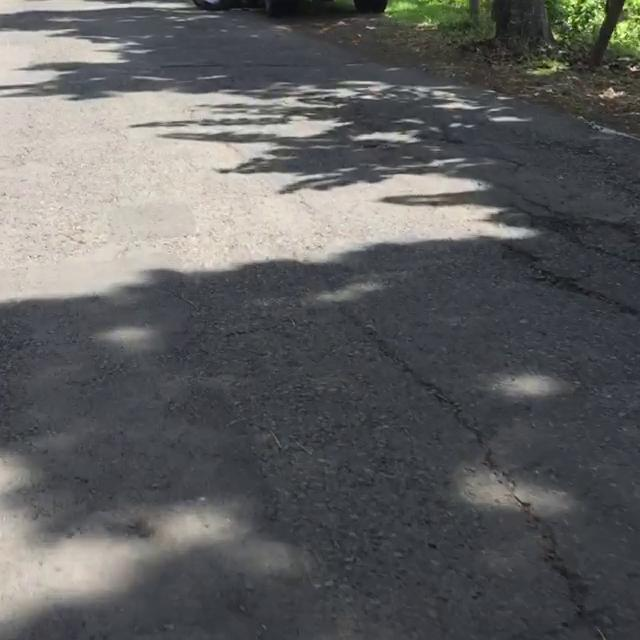retak_memanjang: (327, 308, 640, 640), (538, 245, 640, 595)
